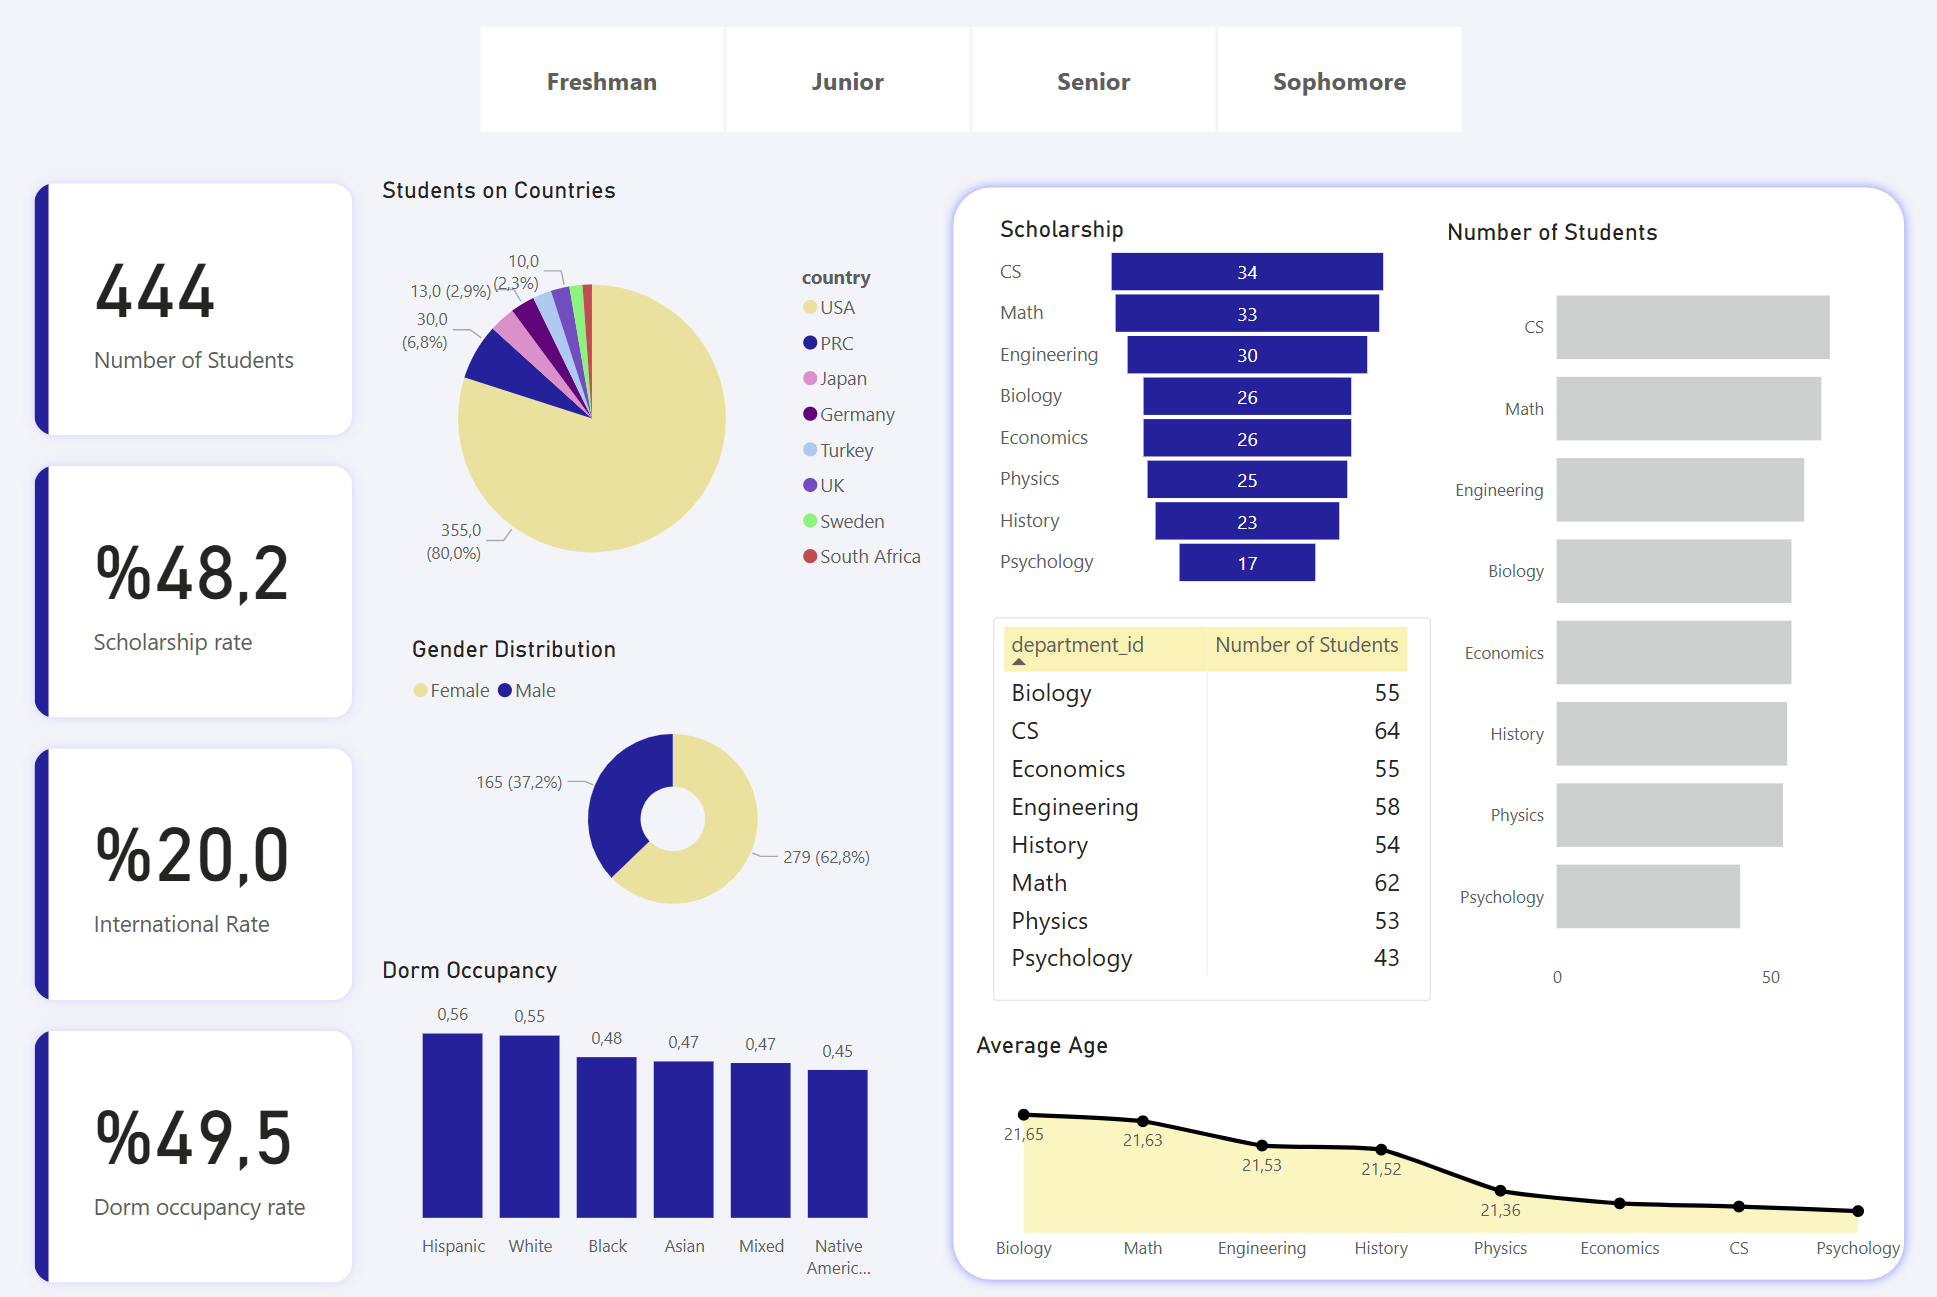

What the dashboard file says about the page in this screenshot:
{"tool":"powerbi","page":{"name":"1. sayfa","canvas":[1400,950],"ordinal":0},"visuals":[{"type":"shape","box":[680.8,138.2,692.8,793.5],"z":0},{"type":"stackedAreaChart","title":"Average Age","fields":{"Y":["Sheet1.Average age"],"Category":["Sheet1.department_id"]},"box":[700,747.9,673.6,172.6],"z":1000},{"type":"cardVisual","fields":{"Data":["Sheet1.Number of Students","Sheet1.Scholarship rate","Sheet1.International Rate","Sheet1.Dorm occupancy rate"]},"box":[19.2,127.1,258.9,815.1],"z":2000},{"type":"clusteredBarChart","title":"Number of Students","fields":{"Category":["Sheet1.department_id"],"Y":["Sheet1.Number of Students"]},"box":[1035.6,167.8,338,558.6],"z":3000},{"type":"clusteredColumnChart","title":"Dorm Occupancy","fields":{"Category":["Sheet1.race"],"Y":["Sheet1.Dorm occupancy rate"]},"box":[278.1,694.4,378.8,237.3],"z":4000},{"type":"donutChart","title":"Gender Distribution","fields":{"Category":["Sheet1.gender"],"Y":["Sheet1.Number of Students"]},"box":[299.7,465.1,381.2,213.4],"z":5000},{"type":"slicer","fields":{"Values":["Sheet1.class_level"]},"box":[326,26.4,747.9,88.7],"z":6000},{"type":"pieChart","title":"Students on Countries","fields":{"Category":["Sheet1.country"],"Y":["Sheet1.Number of Students"]},"box":[278.1,139,402.7,326],"z":7000},{"type":"funnel","title":"Scholarship","fields":{"Category":["Sheet1.department_id"],"Y":["Sum(Sheet1.scholarship)"]},"box":[716.8,167,287.7,268.5],"z":8000},{"type":"tableEx","fields":{"Values":["Sheet1.department_id","Sheet1.Number of Students"]},"box":[716.8,453.1,311.6,273.3],"z":9000}]}

Visuals, with their boxes in screenshot pixels (x1, y1, x2, y2), scaled from the page's 1400x950 canvas onto the 1937x1297 screenshot:
shape: [x1=942, y1=189, x2=1900, y2=1272]
"Average Age" stackedAreaChart: [x1=969, y1=1021, x2=1900, y2=1257]
cardVisual - Sheet1.Number of Students x Sheet1.Scholarship rate: [x1=27, y1=174, x2=385, y2=1286]
"Number of Students" clusteredBarChart: [x1=1433, y1=229, x2=1900, y2=992]
"Dorm Occupancy" clusteredColumnChart: [x1=385, y1=948, x2=909, y2=1272]
"Gender Distribution" donutChart: [x1=415, y1=635, x2=942, y2=926]
slicer - Sheet1.class_level: [x1=451, y1=36, x2=1486, y2=157]
"Students on Countries" pieChart: [x1=385, y1=190, x2=942, y2=635]
"Scholarship" funnel: [x1=992, y1=228, x2=1390, y2=595]
tableEx - Sheet1.department_id x Sheet1.Number of Students: [x1=992, y1=619, x2=1423, y2=992]
